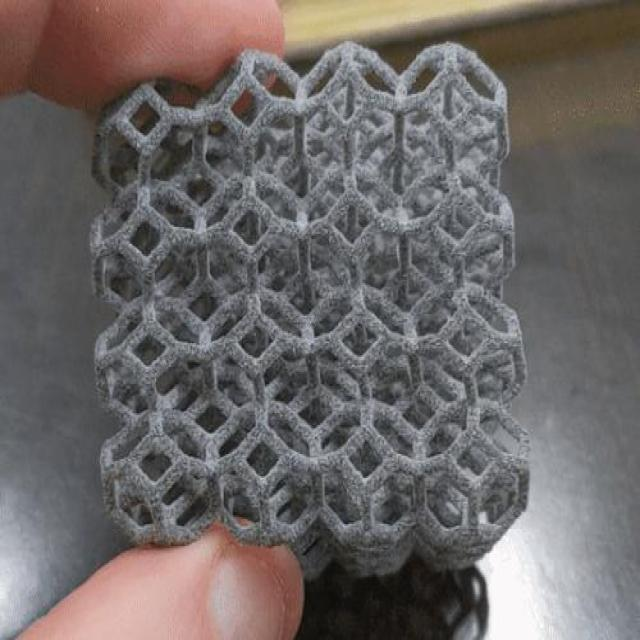Without deffect: (92, 27, 541, 580)
